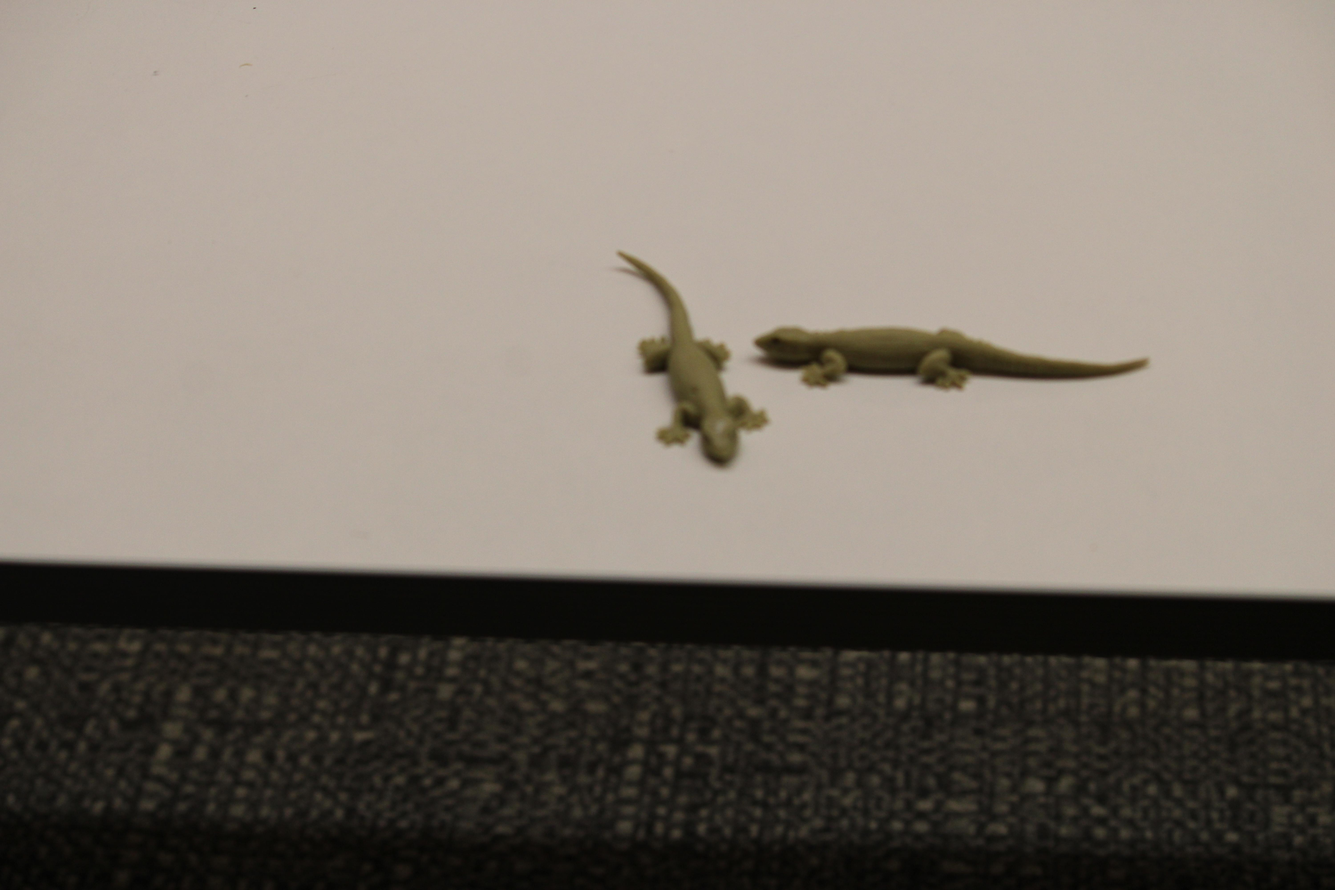lizard: (746, 310, 1153, 395), (621, 243, 761, 475)
